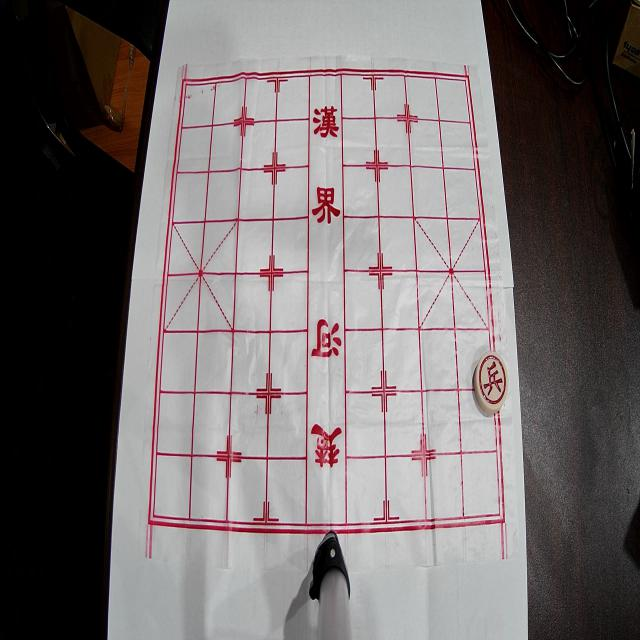red-soldier: (474, 351, 508, 414)
